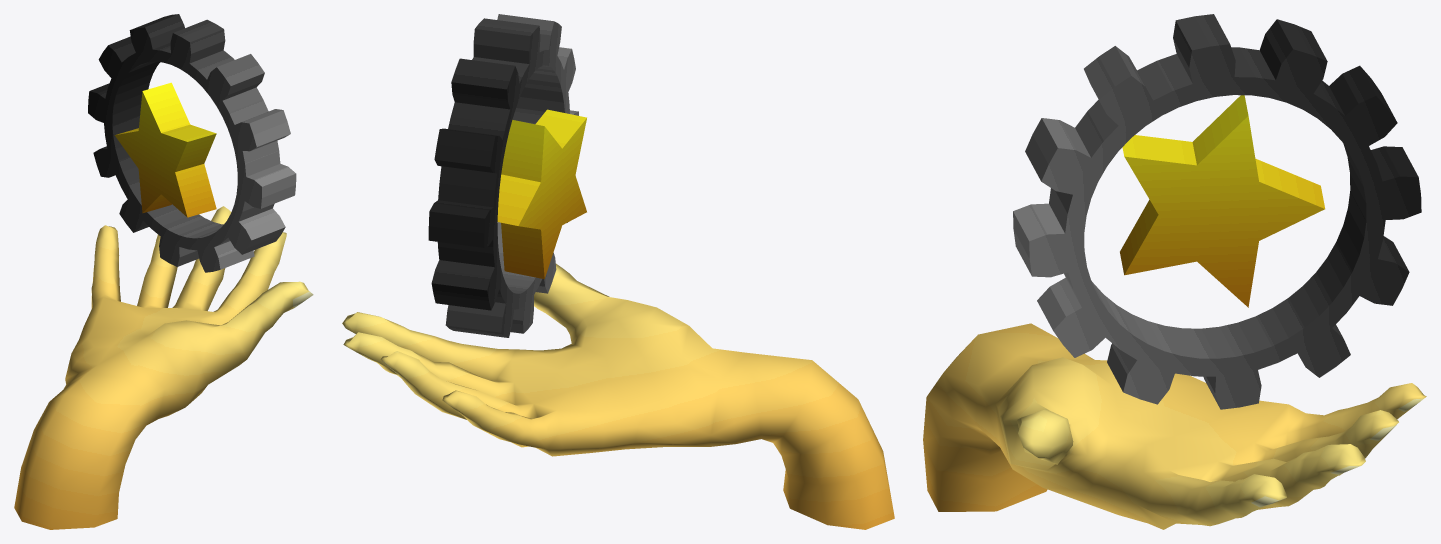
Rendered from tangan2.glb.
3 renders of one model, left to right at view 1: azimuth 30°, elevation 25°; view 2: azimuth 150°, elevation 25°; view 3: azimuth 270°, elevation 25°, orthographic. The views are drawn at different scales.
Visible parts, largest first — view 1: Plane005, Gear.001; view 2: Plane005, Gear.001; view 3: Gear.001, Plane005.
Part boxes in pixels (bbox=[...]): Plane005: bbox=[14, 206, 313, 529]; Gear.001: bbox=[88, 14, 296, 272]; Plane005: bbox=[342, 263, 894, 529]; Gear.001: bbox=[428, 14, 586, 337]; Gear.001: bbox=[1013, 14, 1421, 409]; Plane005: bbox=[923, 323, 1426, 529].
Bounding box in the file's own units: 9.96 × 10.49 × 7.88.
Materials: 1 (1 with a texture image).
